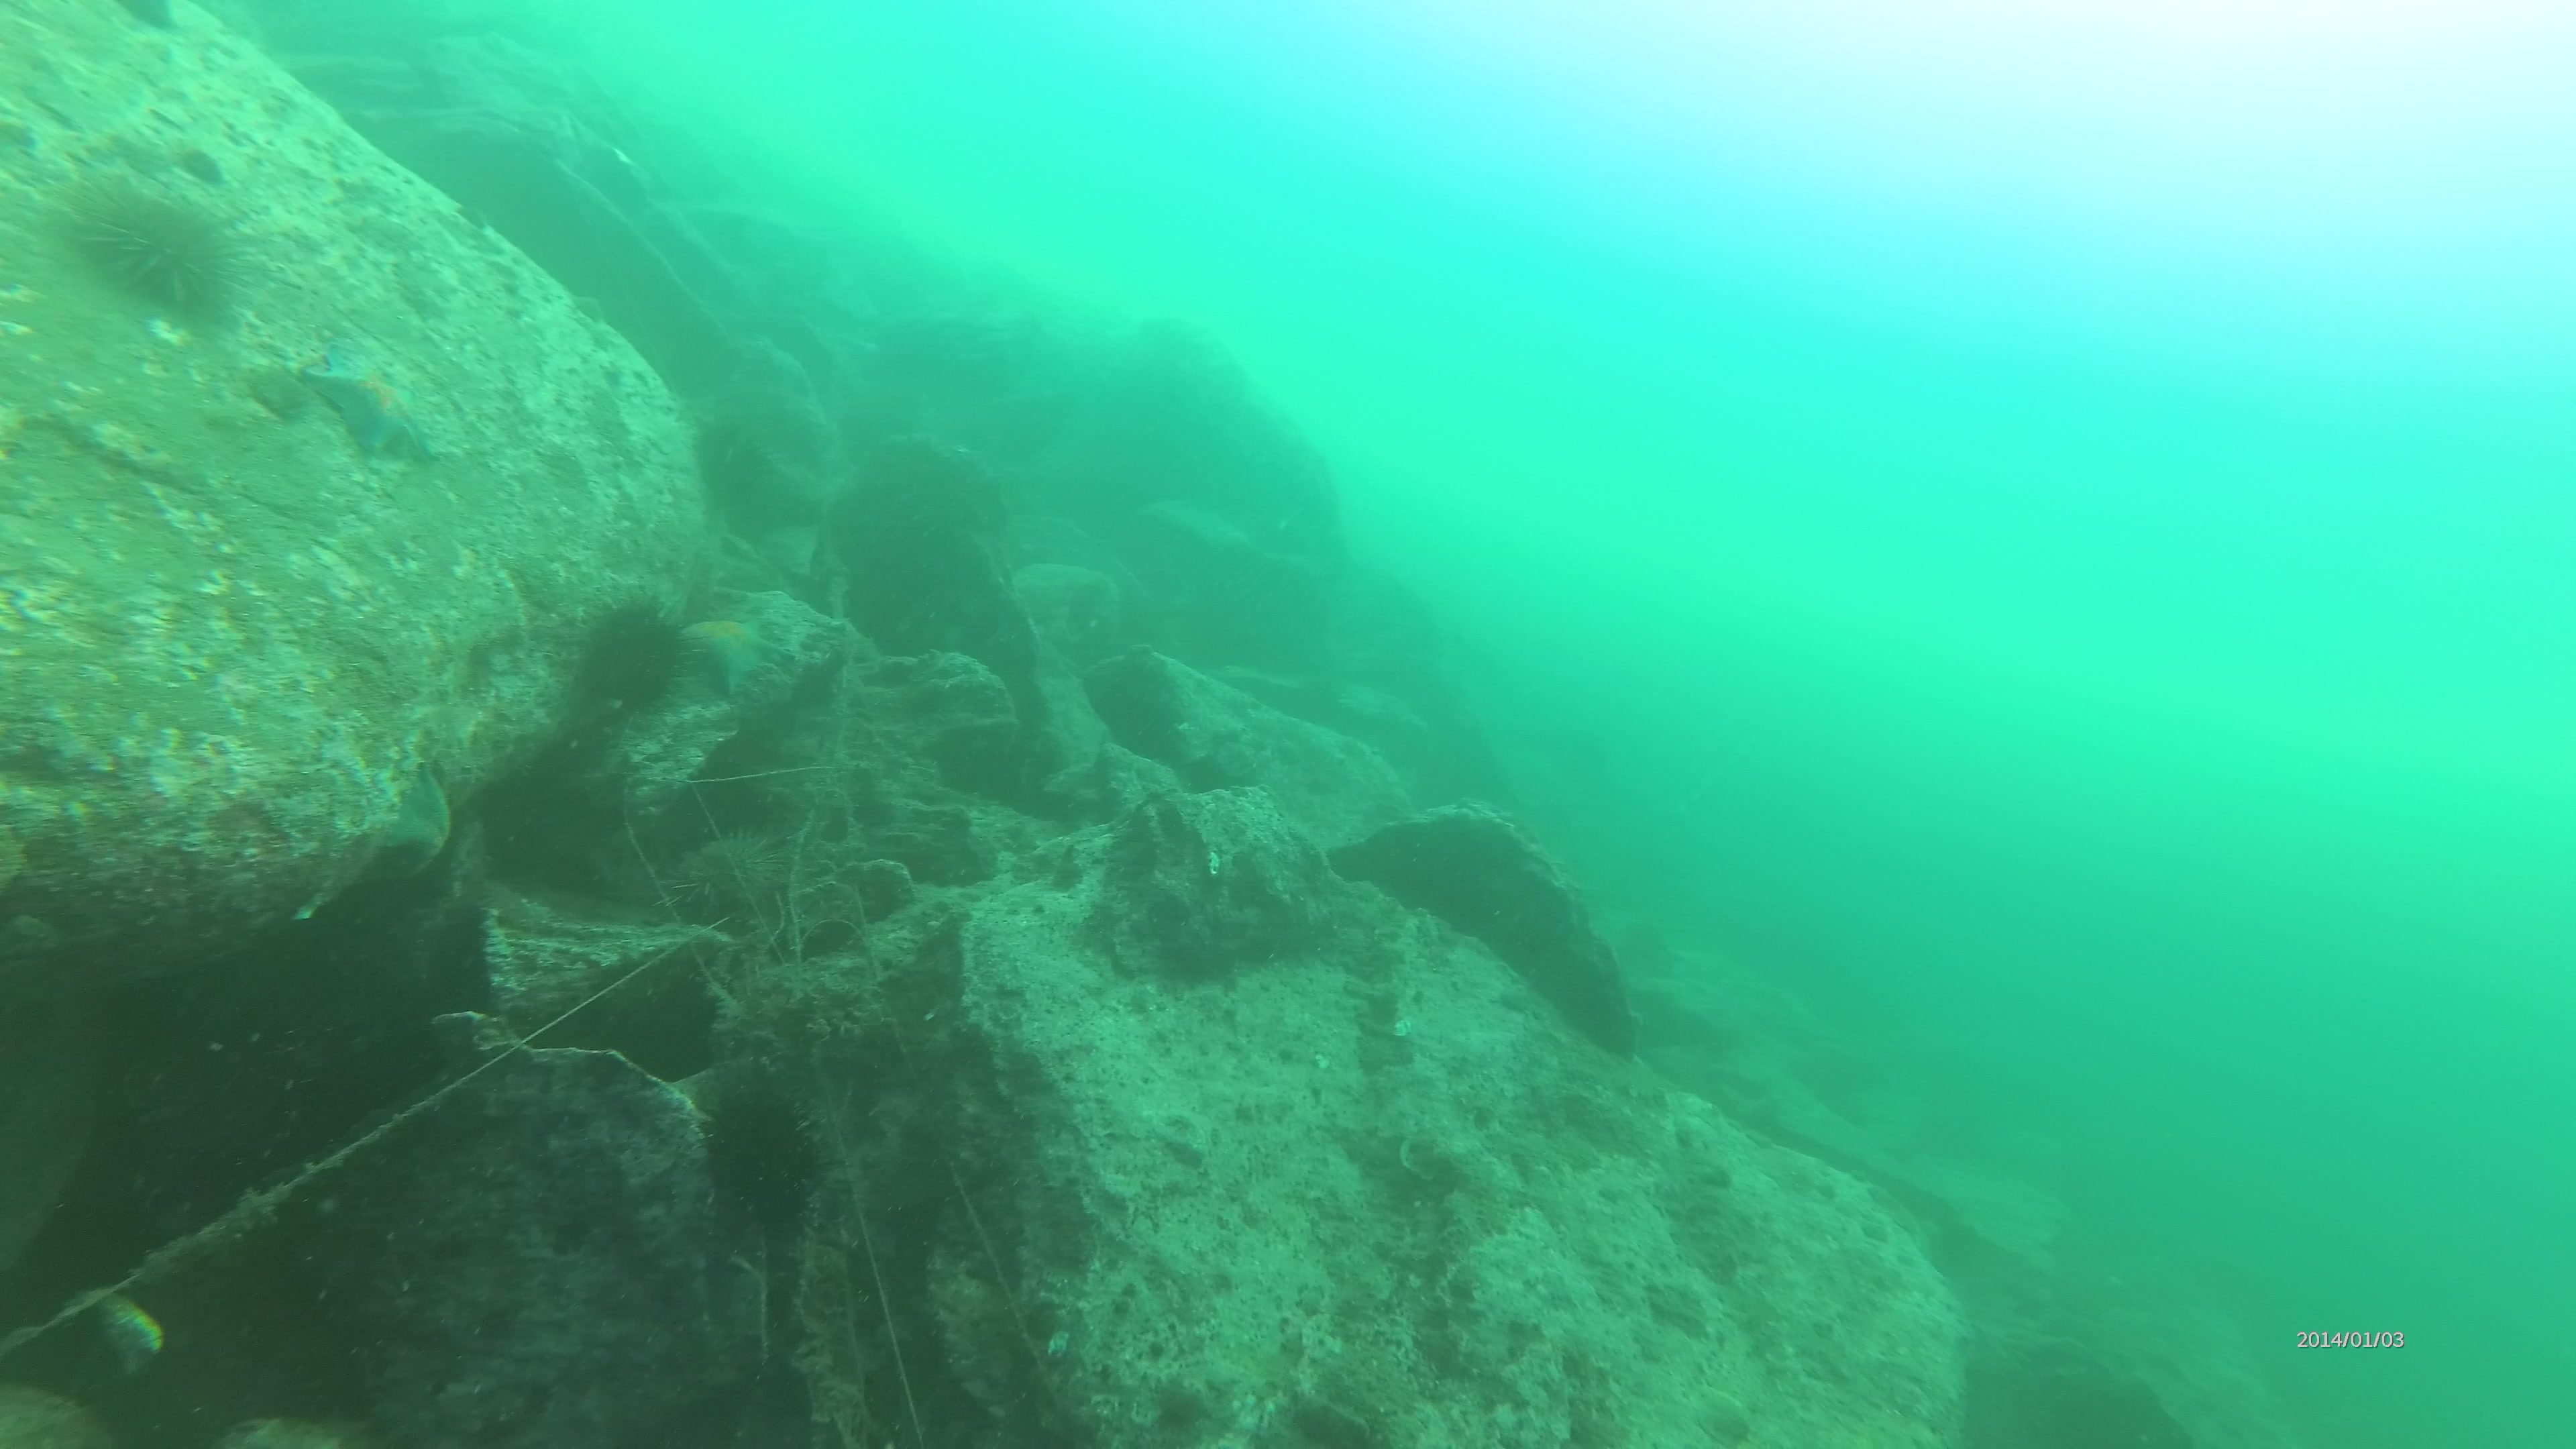echinus: (78, 172, 251, 315), (566, 594, 686, 711)
holothurian: (694, 410, 771, 511)
starfish: (303, 336, 435, 467), (366, 761, 456, 890), (678, 609, 780, 701)
